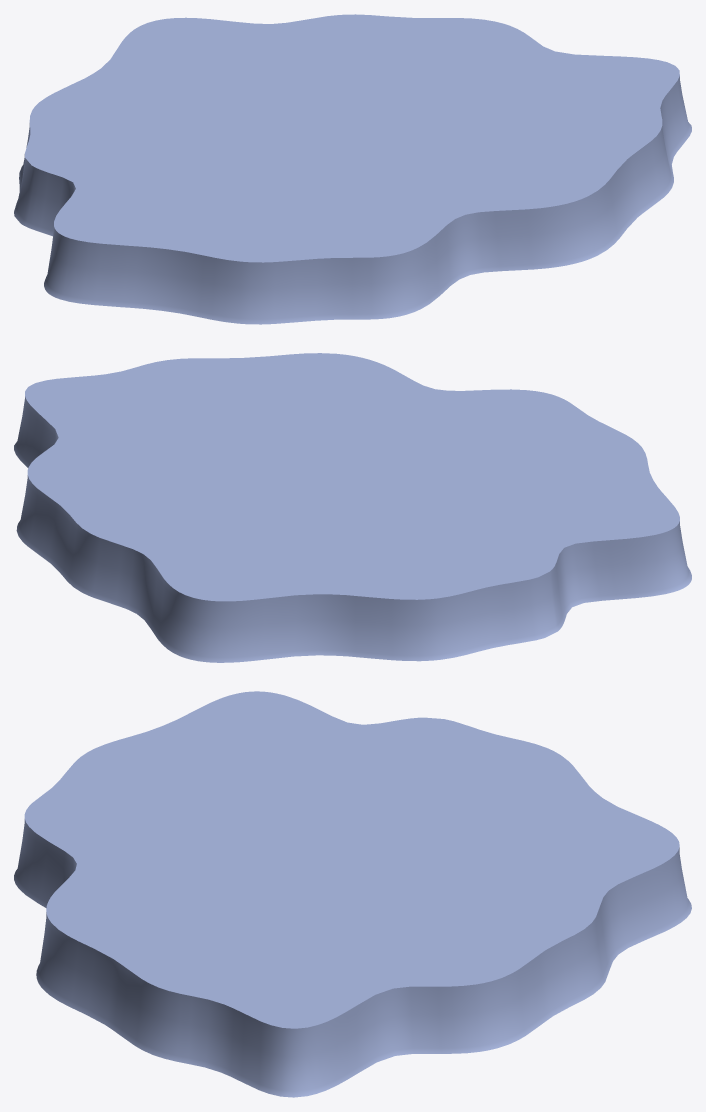
File: recipe-snow-foundation.glb
The picture shows the model from 3 angles, top to bottom: view 1: azimuth 30°, elevation 25°; view 2: azimuth 150°, elevation 25°; view 3: azimuth 270°, elevation 25°; orthographic projection. The views are drawn at different scales.
Visible parts, largest first — view 1: Recipe snow shelf matching foundation; view 2: Recipe snow shelf matching foundation; view 3: Recipe snow shelf matching foundation.
Part boxes in pixels (box(x1,y1,x2,y2)): Recipe snow shelf matching foundation: box(14, 14, 691, 324); Recipe snow shelf matching foundation: box(14, 353, 691, 662); Recipe snow shelf matching foundation: box(14, 691, 691, 1097).
Bounding box in the file's own units: 13.74 × 1.15 × 11.27.
